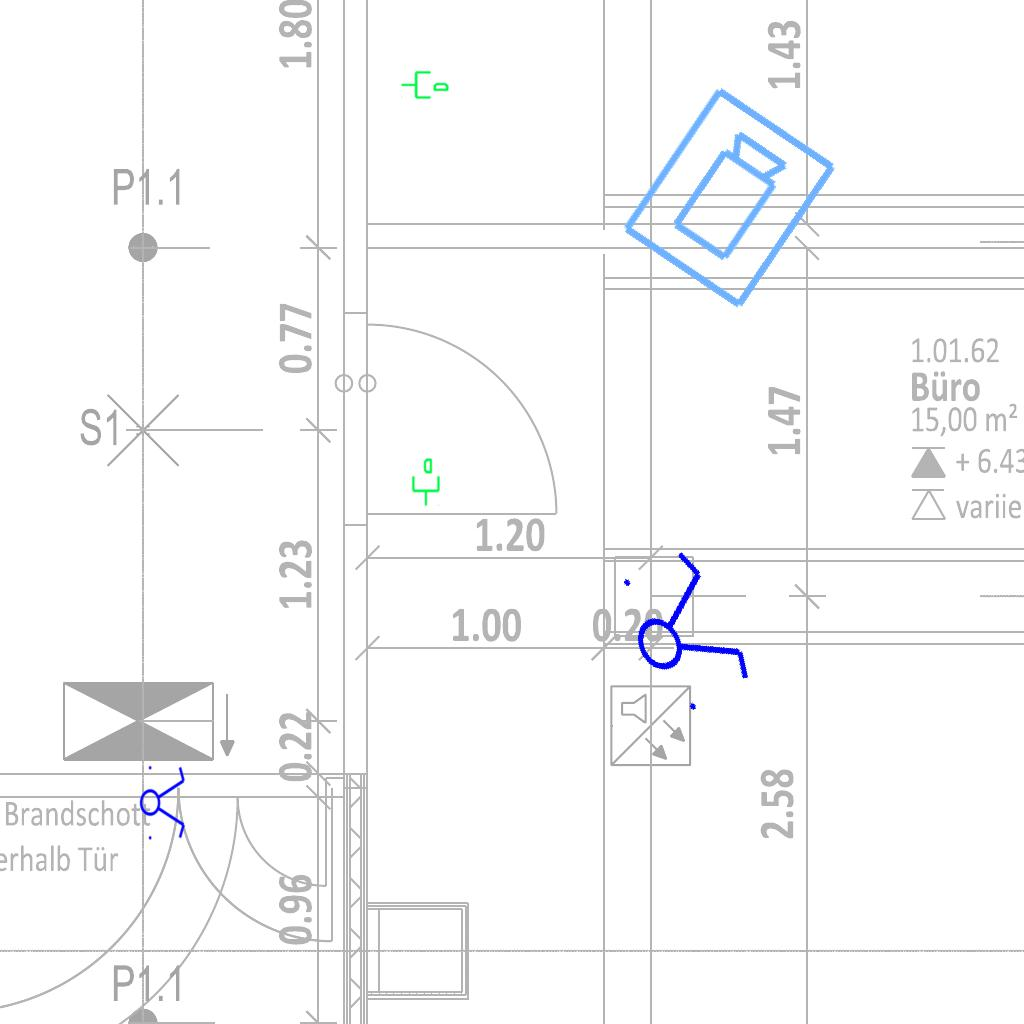Datenanschluss_einfach: (400, 67, 450, 101), (408, 457, 442, 507)
KFO_Kamera_mit_Festobjektiv: (615, 80, 845, 318)
Serienschalter: (600, 534, 764, 728), (139, 760, 187, 844)
